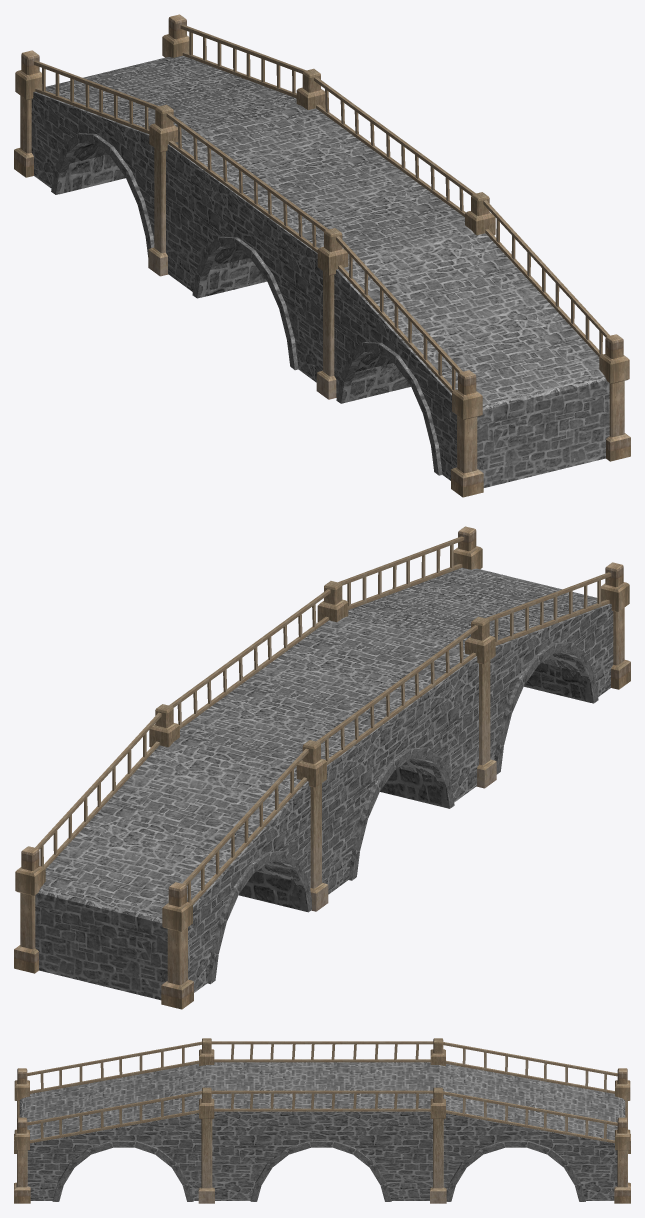
The model's file is PuentePiedra.fbx.
3 views of the same model, one above another, from view 1: azimuth 30°, elevation 25°; view 2: azimuth 150°, elevation 25°; view 3: azimuth 270°, elevation 25° (orthographic). The views are drawn at different scales.
Visible parts, largest first — view 1: Cube, pillar.004, parapet.004, parapet.001, pillar.005, pillar.006, pillar, parapet.003, parapet, Cylinder.003, Cylinder.004, Cylinder.005 (+6 smaller); view 2: Cube, pillar.007, parapet.001, parapet.004, pillar.005, pillar.006, pillar.003, parapet.002, parapet.005, Cylinder.004, Cylinder.005, Cylinder.003 (+6 smaller); view 3: Cube, parapet.004, parapet.001, parapet, parapet.003, parapet.002, parapet.005, pillar.001, pillar.002, Cylinder, Cylinder.001, Cylinder.002 (+6 smaller).
Part boxes in pixels (<box>): Cube: <box>31,55,609,487</box>; pillar.004: <box>451,370,483,497</box>; parapet.004: <box>166,113,328,252</box>; parapet.001: <box>314,77,475,216</box>; pillar.005: <box>316,228,348,399</box>; pillar.006: <box>148,104,178,276</box>; pillar: <box>599,334,630,461</box>; parapet.003: <box>336,236,462,392</box>; parapet: <box>483,200,609,356</box>; Cylinder.003: <box>336,342,442,475</box>; Cylinder.004: <box>192,236,298,370</box>; Cylinder.005: <box>51,133,154,256</box>; Cube: <box>35,567,613,1000</box>; pillar.007: <box>161,882,193,1009</box>; parapet.001: <box>169,589,330,728</box>; parapet.004: <box>316,625,477,764</box>; pillar.005: <box>465,616,496,788</box>; pillar.006: <box>296,740,328,911</box>; pillar.003: <box>14,846,45,973</box>; parapet.002: <box>35,712,161,868</box>; parapet.005: <box>182,748,308,904</box>; Cylinder.004: <box>348,747,454,880</box>; Cylinder.005: <box>207,850,311,984</box>; Cylinder.003: <box>494,641,598,774</box>; Cube: <box>19,1062,625,1200</box>; parapet.004: <box>211,1041,433,1062</box>; parapet.001: <box>211,1090,433,1111</box>; parapet: <box>27,1091,201,1143</box>; parapet.003: <box>27,1041,201,1093</box>; parapet.002: <box>443,1091,617,1143</box>; parapet.005: <box>443,1042,617,1093</box>; pillar.001: <box>198,1087,214,1203</box>; pillar.002: <box>430,1087,446,1203</box>; Cylinder: <box>52,1140,193,1201</box>; Cylinder.001: <box>250,1140,391,1201</box>; Cylinder.002: <box>446,1140,585,1201</box>.
Bounding box in the file's own units: 990 × 909 × 4576.
